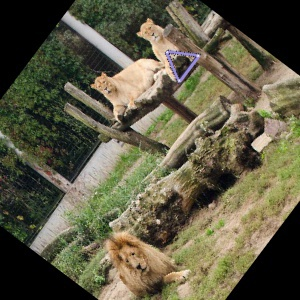triangle: (162, 45, 202, 84)
